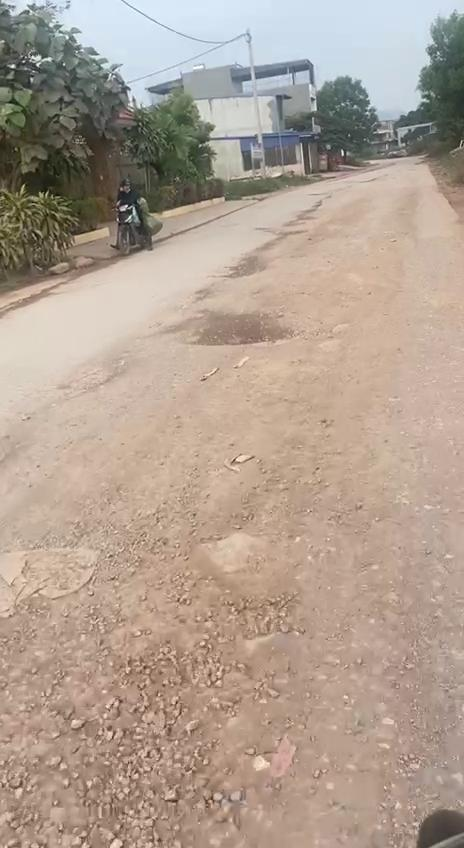pothole: (300, 242, 404, 340), (180, 300, 304, 350), (224, 252, 270, 280)
